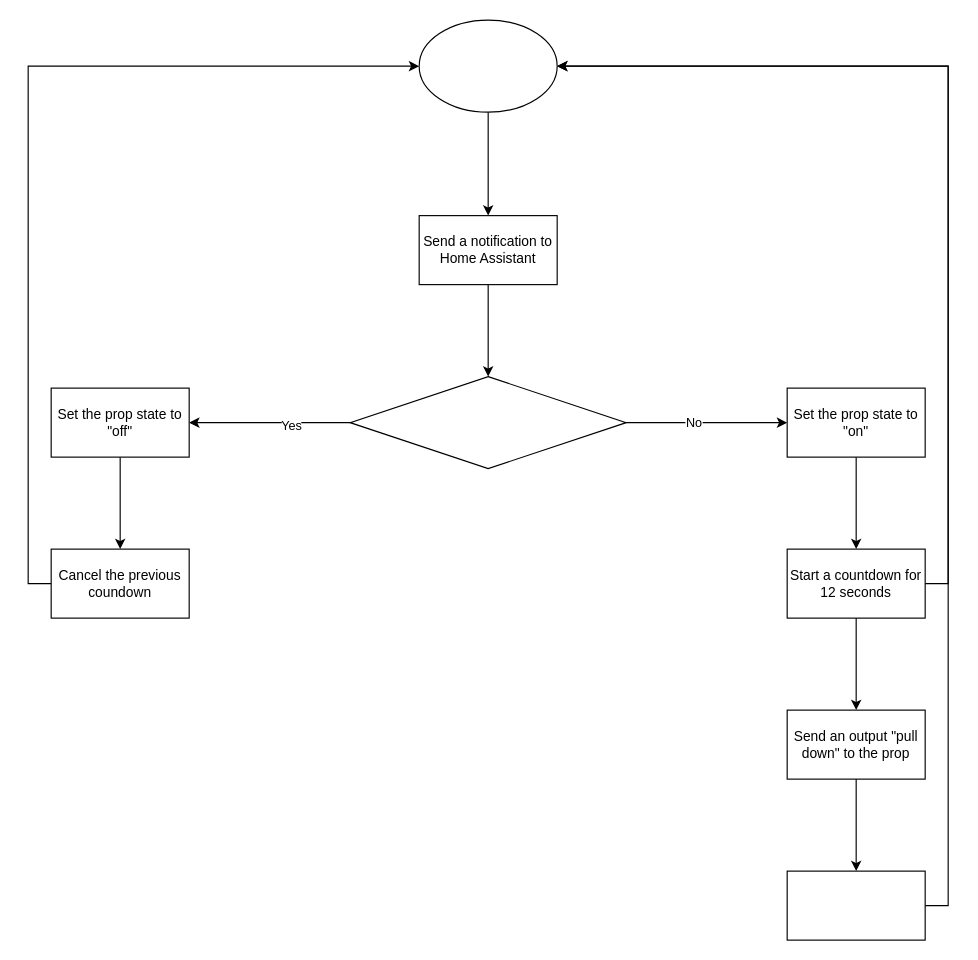
This 978x960 diagram has some shape labels left out. Each missing label, with the box of its shape:
Button pressed: (418, 19, 557, 112)
Is the prop currently on?: (349, 375, 626, 469)
Set the prop state of "off": (786, 870, 925, 940)
